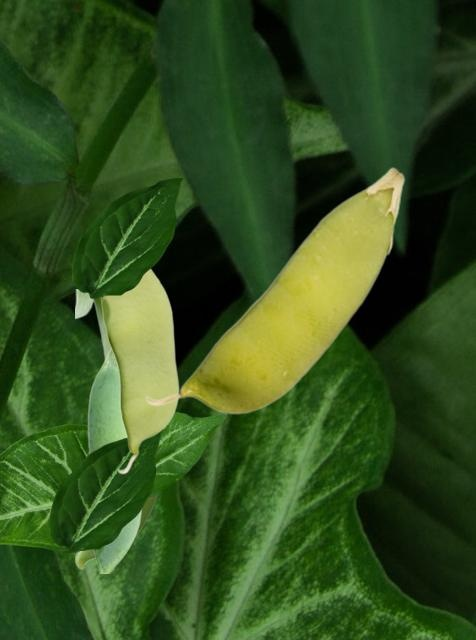pea: (145, 167, 404, 413), (75, 289, 159, 568), (100, 269, 178, 473), (87, 349, 141, 572)
